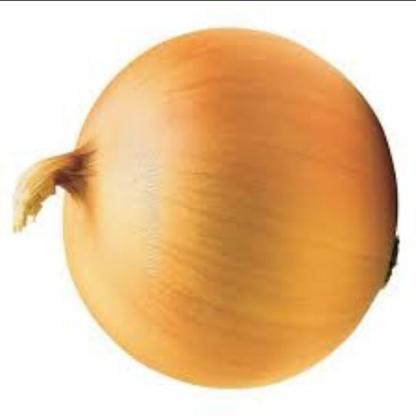onion: (55, 22, 399, 402)
